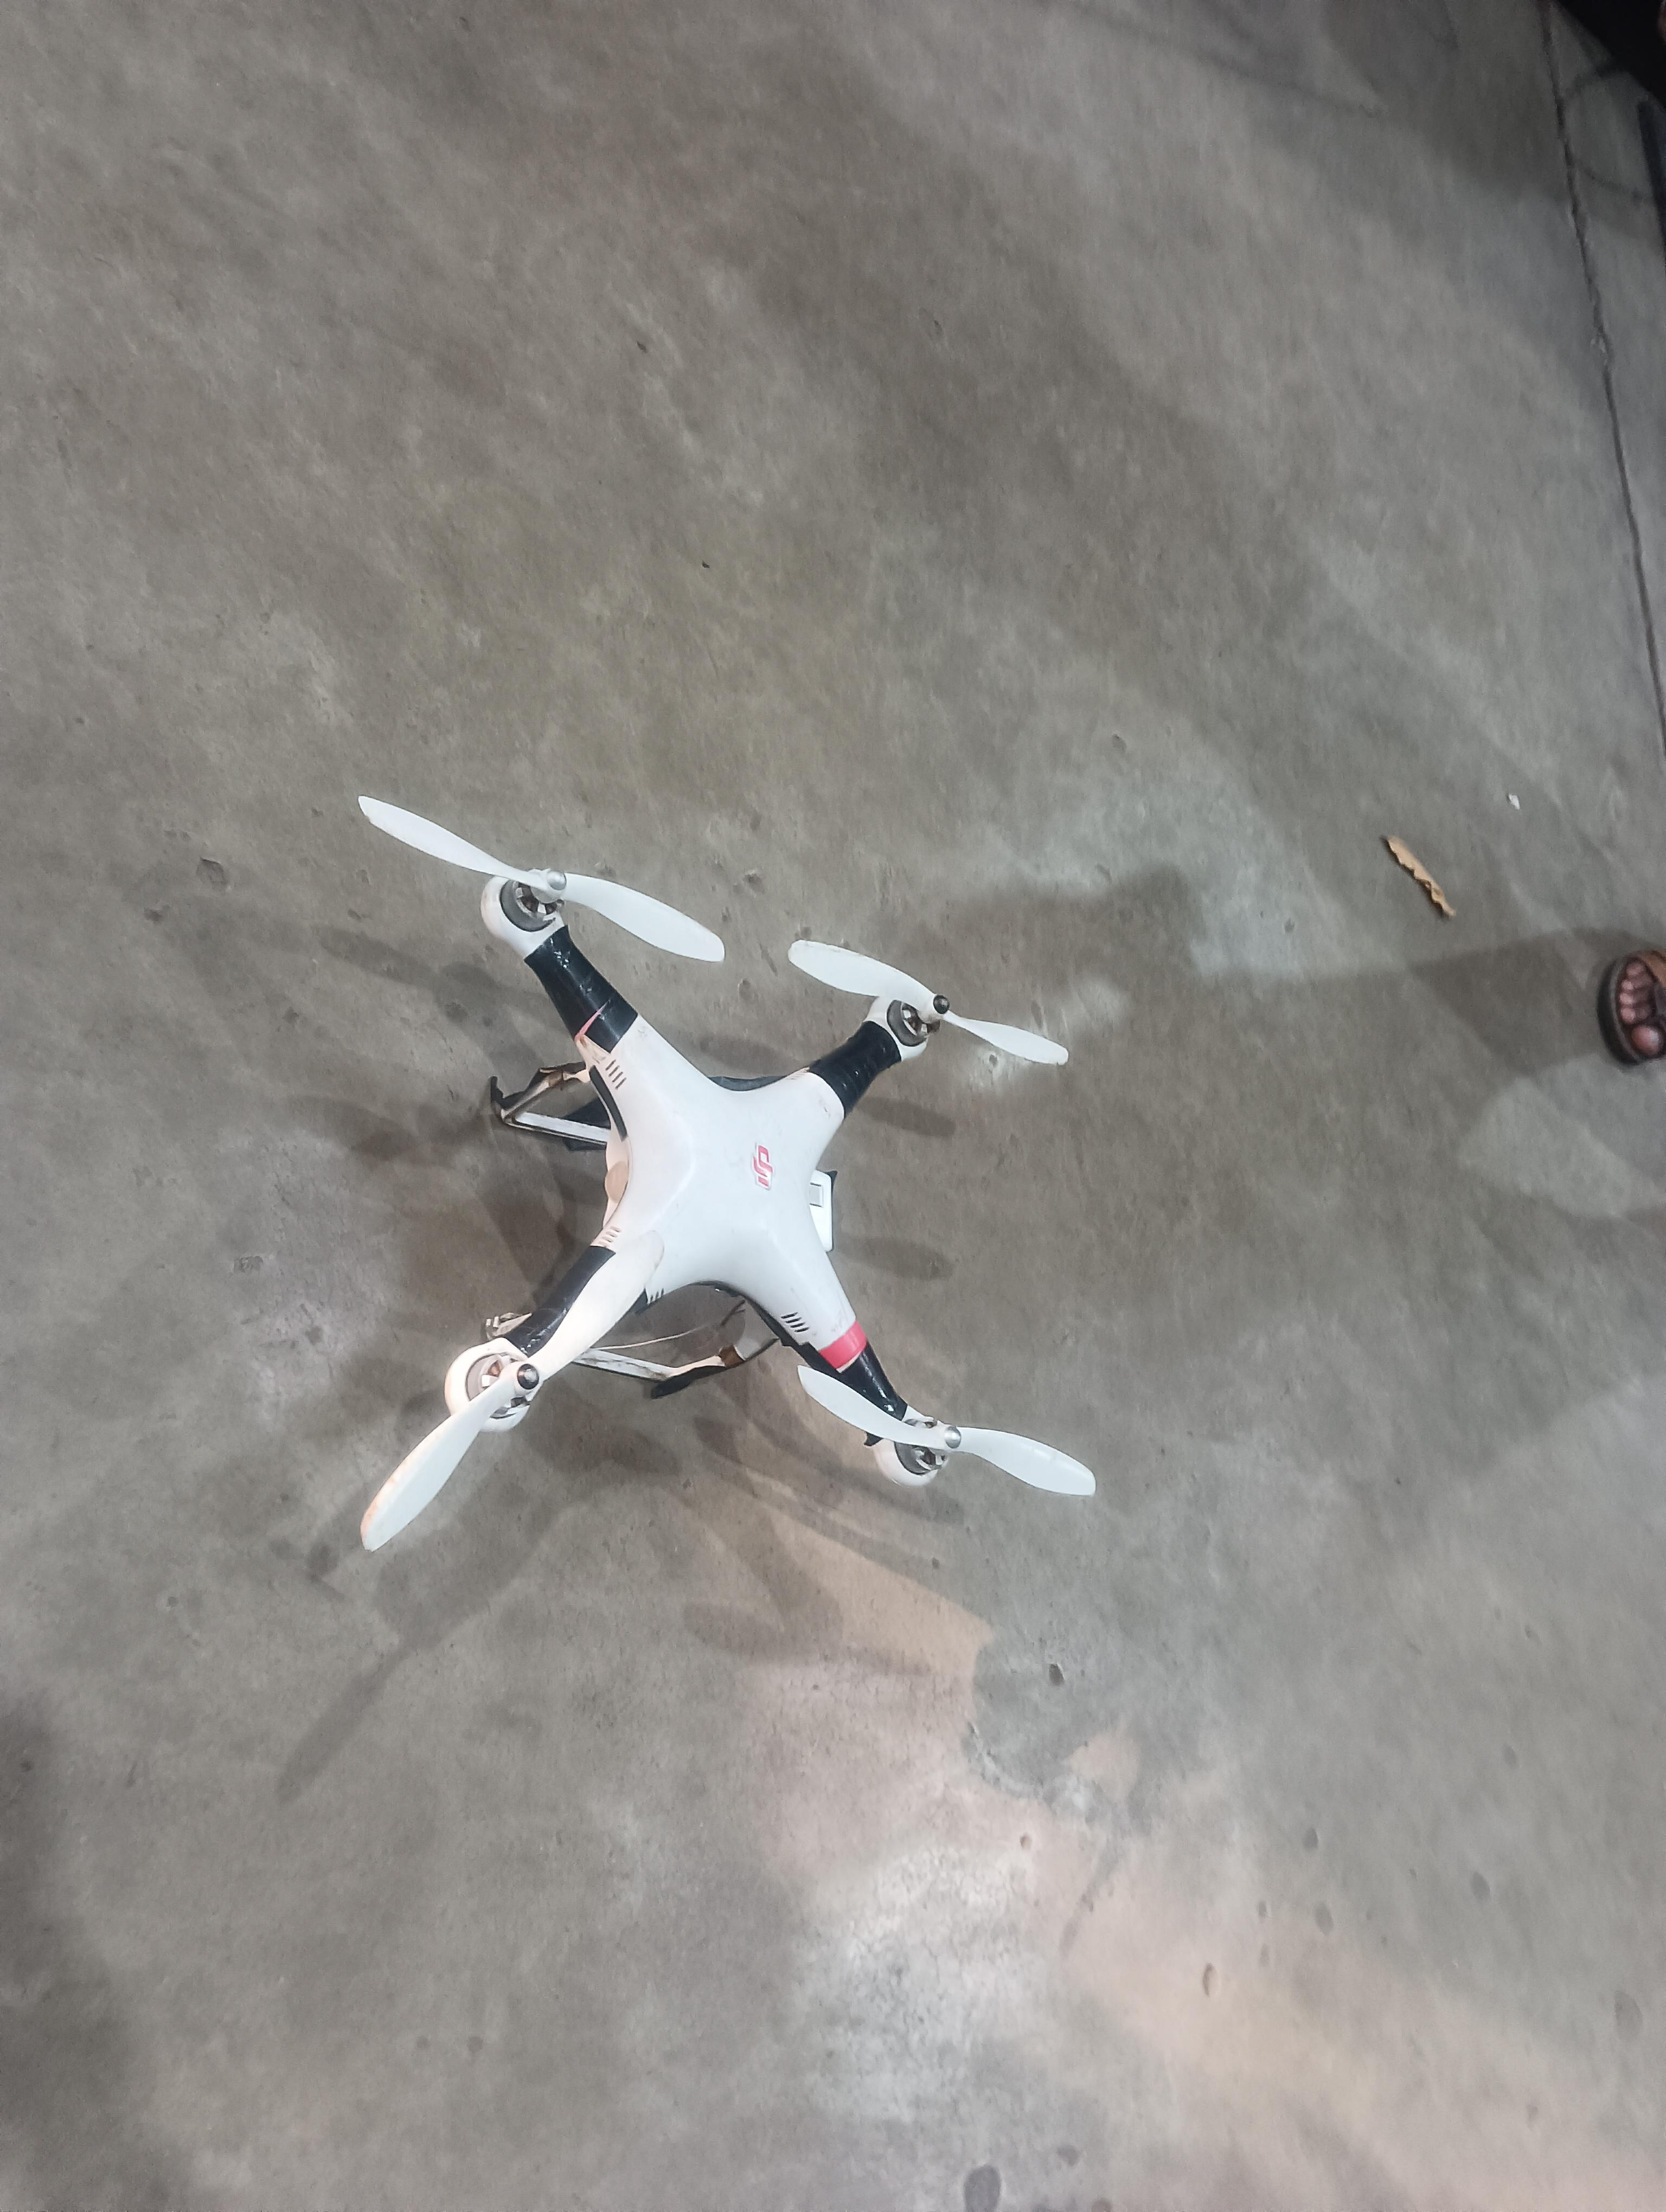drone: (164, 749, 1237, 1638)
